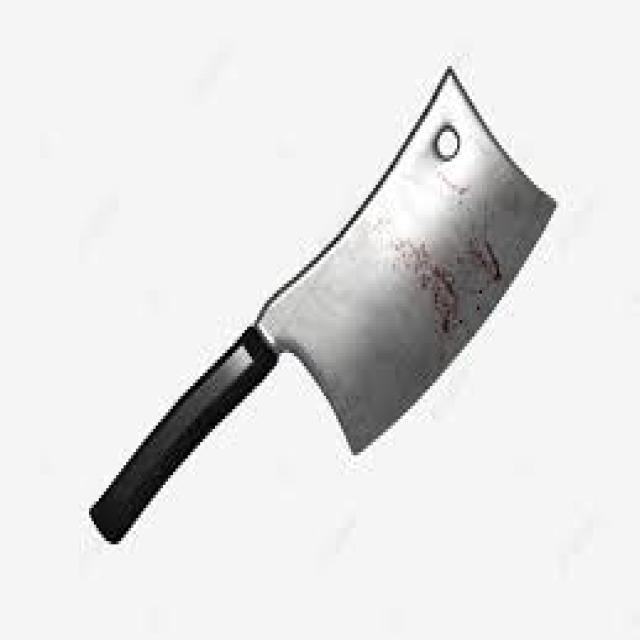Knife: (89, 66, 554, 541)
